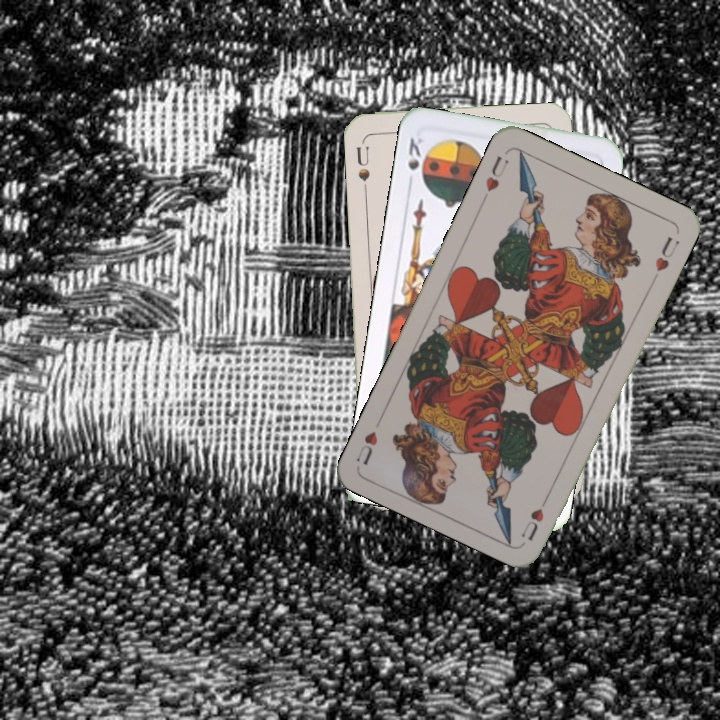HU: (517, 489, 553, 543), (481, 152, 512, 195)
SK: (403, 133, 425, 190)
SU: (352, 136, 372, 195)
